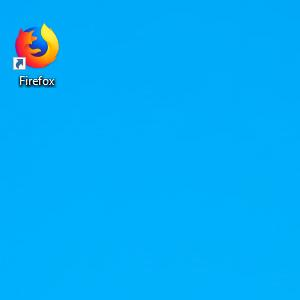firefox: (13, 23, 59, 70)
